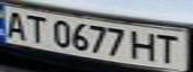0: (48, 17, 72, 48)
6: (66, 20, 90, 52)
7: (106, 25, 130, 57), (87, 24, 109, 55)
A: (0, 8, 30, 39)
H: (127, 29, 163, 63)
T: (151, 31, 184, 64), (21, 12, 51, 44)
